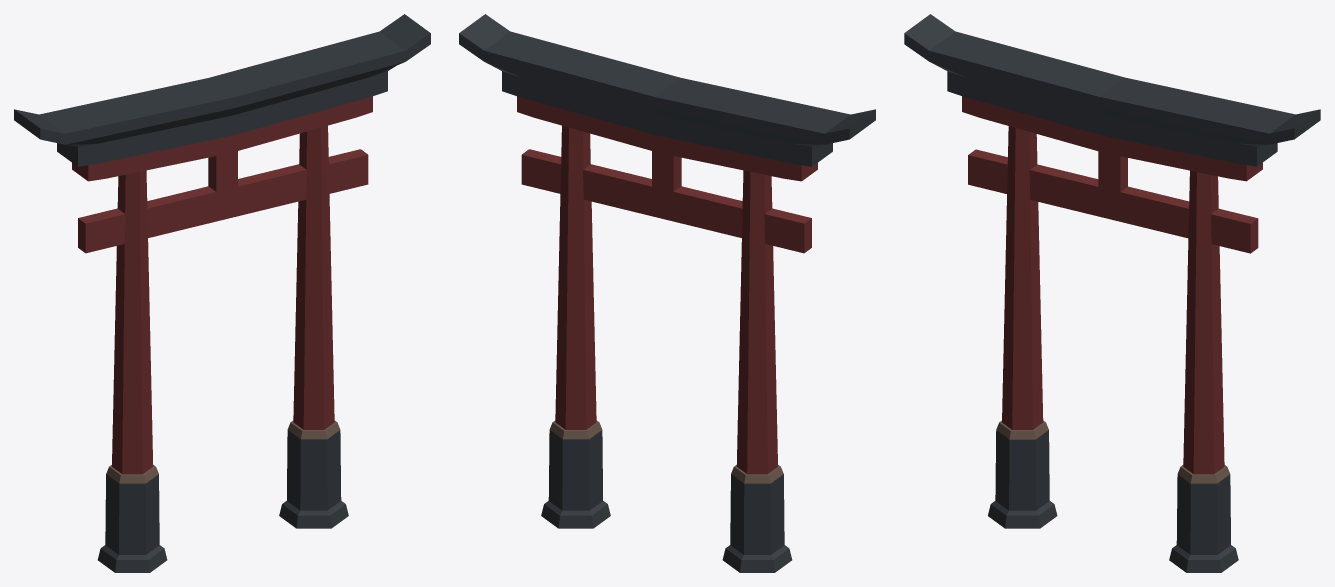
The model's file is Sketchfab_Scene.gltf.
The picture shows the model from 3 angles, left to right: view 1: azimuth 30°, elevation 25°; view 2: azimuth 150°, elevation 25°; view 3: azimuth 330°, elevation 25°; orthographic projection.
Visible parts, largest first — view 1: Cylinder; view 2: Cylinder; view 3: Cylinder.
Boxes of the visible parts, x1,y1,x2,y2 form: Cylinder: (14,14,430,572); Cylinder: (459,14,875,572); Cylinder: (904,14,1320,572).
Bounding box in the file's own units: 6.9 × 7.88 × 1.07.
